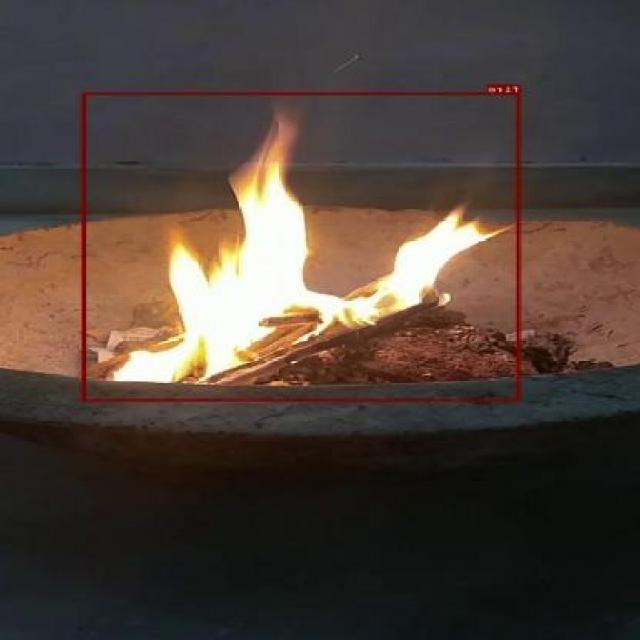Fire: (83, 92, 522, 400)
